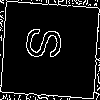S: (25, 24, 70, 62)
